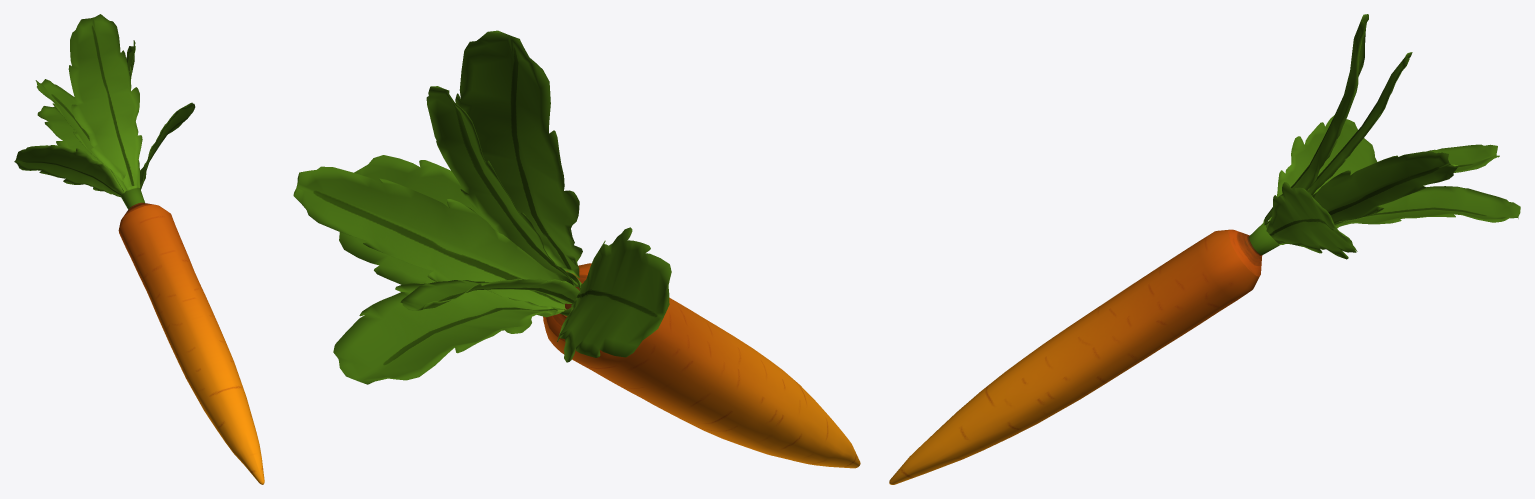
Rendered from carrot_dynamic.obj.
3 renders of one model, left to right at view 1: azimuth 30°, elevation 25°; view 2: azimuth 150°, elevation 25°; view 3: azimuth 270°, elevation 25°, orthographic. The views are drawn at different scales.
Size of the model in its own units: 0.3092 by 0.5918 by 0.7225.
3 materials, 3 textured.
